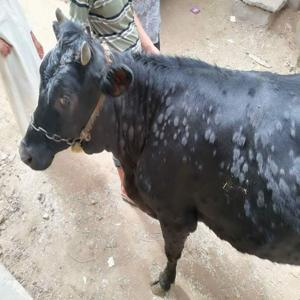lumpy skin diesease: (18, 6, 299, 298)
